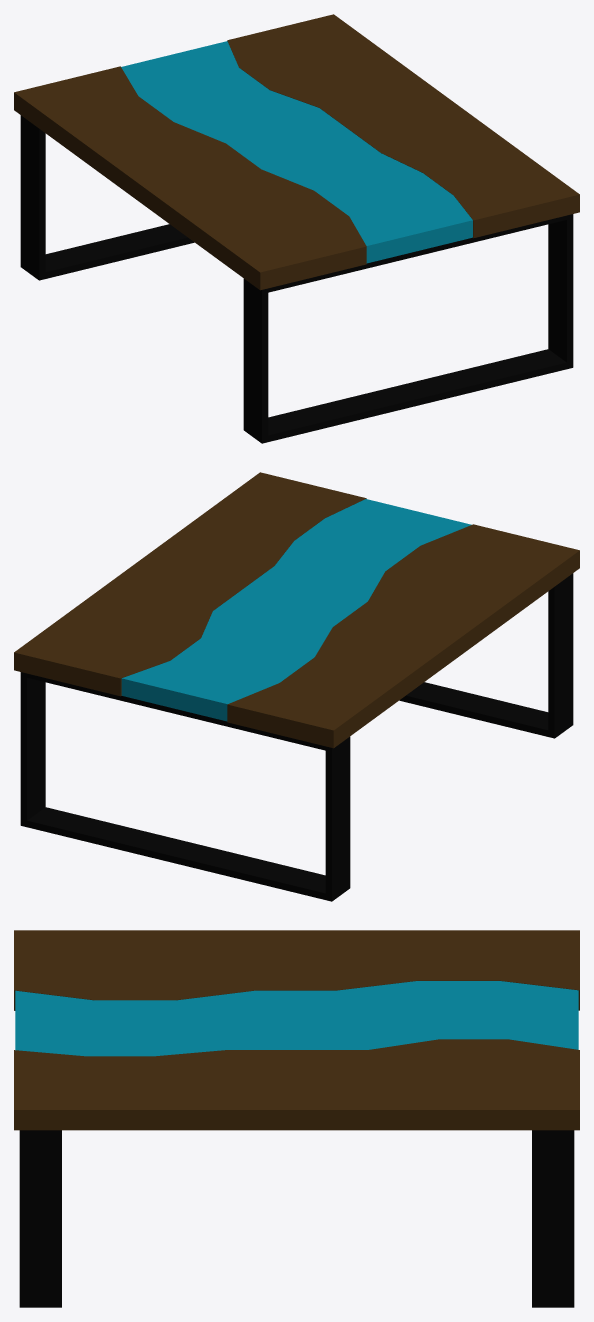
The model's file is resin-table.glb.
The picture shows the model from 3 angles, top to bottom: view 1: azimuth 30°, elevation 25°; view 2: azimuth 150°, elevation 25°; view 3: azimuth 270°, elevation 25°; orthographic projection. The views are drawn at different scales.
Parts seen in each view (by area): view 1: wood, resin, leg1, leg2; view 2: wood, resin, leg2, leg1; view 3: wood, resin, leg1, leg2.
Part boxes in pixels (x1,y1,x2,y2): wood: (14, 14, 579, 290); resin: (121, 41, 472, 263); leg1: (243, 214, 573, 443); leg2: (20, 115, 194, 280); wood: (14, 472, 579, 748); resin: (121, 499, 471, 721); leg2: (20, 672, 350, 901); leg1: (399, 573, 573, 738); wood: (14, 930, 579, 1130); resin: (15, 981, 578, 1056); leg1: (19, 1130, 61, 1307); leg2: (532, 1130, 574, 1307).
Size of the model in its own units: 1.5 by 0.78 by 2.
